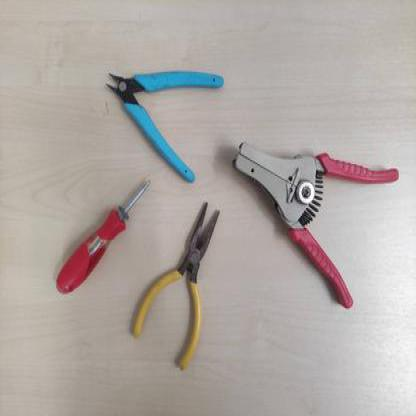Screwdriver: (54, 174, 153, 295)
